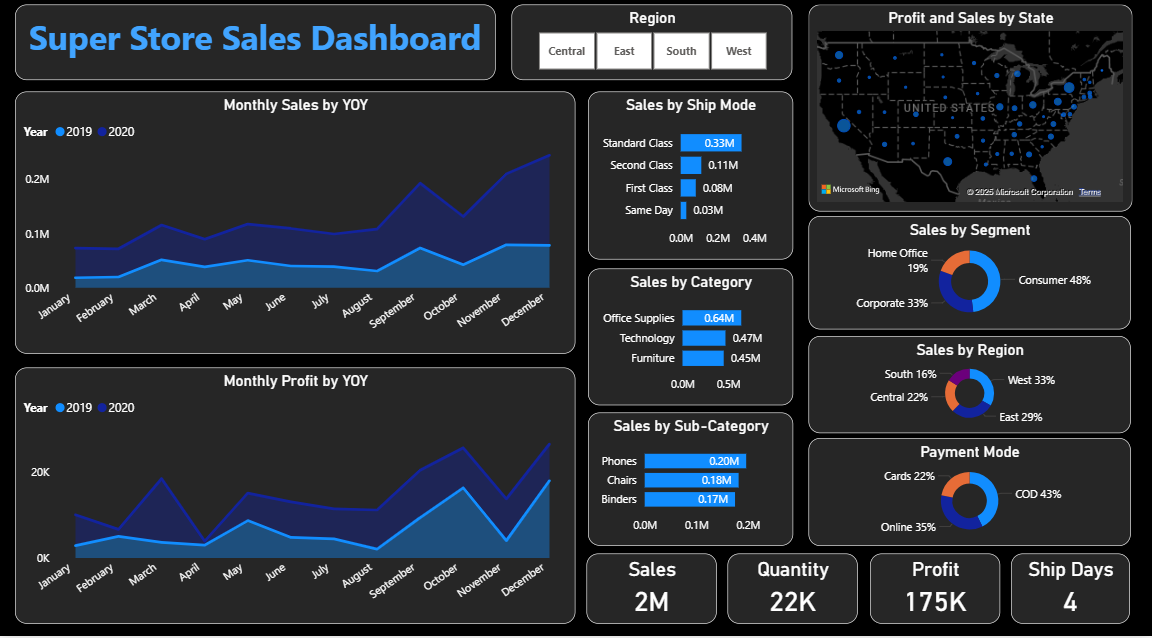

What the dashboard file says about the page in this screenshot:
{"tool":"powerbi","page":{"name":"Page 1","canvas":[1280,720],"ordinal":0},"visuals":[{"type":"clusteredBarChart","title":"Sales by Category","fields":{"Category":["Sheet1 (2).Category"],"Y":["Sum(Sheet1 (2).Sales)"]},"box":[653.3,311.1,227.8,152.2],"z":0},{"type":"clusteredBarChart","title":"Sales by Ship Mode","fields":{"Category":["Sheet1 (2).Ship Mode"],"Y":["Sum(Sheet1 (2).Sales)"]},"box":[653.3,115.6,227.8,186.7],"z":1000},{"type":"clusteredBarChart","title":"Sales by Sub-Category","fields":{"Category":["Sheet1 (2).Sub-Category"],"Y":["Sum(Sheet1 (2).Sales)"]},"box":[653.9,471.7,227.7,148],"z":2000},{"type":"stackedAreaChart","title":"Monthly Sales by YOY","fields":{"Y":["Sum(Sheet1 (2).Sales)"],"Category":["Sheet1 (2).Order Date.Variation.Date Hierarchy.Month","Sheet1 (2).Order Date.Variation.Date Hierarchy.Day"],"Series":["Sheet1 (2).Order Date.Variation.Date Hierarchy.Year"]},"box":[16.3,115.5,623,291.2],"z":3000},{"type":"map","title":"Profit and Sales by State","fields":{"Category":["Sheet1 (2).State"],"Size":["Sum(Sheet1 (2).Sales)"]},"box":[898,18,360,230],"z":4000},{"type":"donutChart","title":"Sales by Segment","fields":{"Category":["Sheet1 (2).Segment"],"Y":["Sum(Sheet1 (2).Sales)"]},"box":[898,254,358,126],"z":5000},{"type":"donutChart","title":"Payment Mode","fields":{"Y":["Sum(Sheet1 (2).Sales)"],"Category":["Sheet1 (2).Payment Mode"]},"box":[898,500,358,120],"z":6000},{"type":"donutChart","title":"Sales by Region","fields":{"Category":["Sheet1 (2).Region"],"Y":["Sum(Sheet1 (2).Sales)"]},"box":[898,386,358,108],"z":7000},{"type":"slicer","title":"Region","fields":{"Values":["Sheet1 (2).Region"]},"box":[568,18,312,84],"z":8000},{"type":"textbox","box":[16,18,534,84],"z":9000},{"type":"card","title":"Sales","fields":{"Values":["Sum(Sheet1 (2).Sales)"]},"box":[652.2,627.8,144.8,78.1],"z":10000},{"type":"card","title":"Ship Days","fields":{"Values":["Avg(Sheet1 (2).Avg-Delivery)"]},"box":[1123.9,627.8,131.8,78.1],"z":11000},{"type":"card","title":"Profit","fields":{"Values":["Sum(Sheet1 (2).Profit)"]},"box":[966.2,627.8,144.8,78.1],"z":12000},{"type":"card","title":"Quantity","fields":{"Values":["Sum(Sheet1 (2).Quantity)"]},"box":[808.4,627.8,144.8,78.1],"z":13000},{"type":"stackedAreaChart","title":"Monthly Profit by YOY","fields":{"Category":["Sheet1 (2).Order Date.Variation.Date Hierarchy.Month","Sheet1 (2).Order Date.Variation.Date Hierarchy.Day"],"Series":["Sheet1 (2).Order Date.Variation.Date Hierarchy.Year"],"Y":["Sum(Sheet1 (2).Profit)"]},"box":[16.3,421.3,623,284.6],"z":14000}]}

Visuals, with their boxes in screenshot pixels (x1, y1, x2, y2), scaled from the page's 1280x720 canvas onto the 1152x638 screenshot:
"Sales by Category" clusteredBarChart: x1=588 y1=276 x2=793 y2=411
"Sales by Ship Mode" clusteredBarChart: x1=588 y1=102 x2=793 y2=268
"Sales by Sub-Category" clusteredBarChart: x1=589 y1=418 x2=793 y2=549
"Monthly Sales by YOY" stackedAreaChart: x1=15 y1=102 x2=575 y2=360
"Profit and Sales by State" map: x1=808 y1=16 x2=1132 y2=220
"Sales by Segment" donutChart: x1=808 y1=225 x2=1130 y2=337
"Payment Mode" donutChart: x1=808 y1=443 x2=1130 y2=549
"Sales by Region" donutChart: x1=808 y1=342 x2=1130 y2=438
"Region" slicer: x1=511 y1=16 x2=792 y2=90
textbox: x1=14 y1=16 x2=495 y2=90
"Sales" card: x1=587 y1=556 x2=717 y2=626
"Ship Days" card: x1=1012 y1=556 x2=1130 y2=626
"Profit" card: x1=870 y1=556 x2=1000 y2=626
"Quantity" card: x1=728 y1=556 x2=858 y2=626
"Monthly Profit by YOY" stackedAreaChart: x1=15 y1=373 x2=575 y2=626
